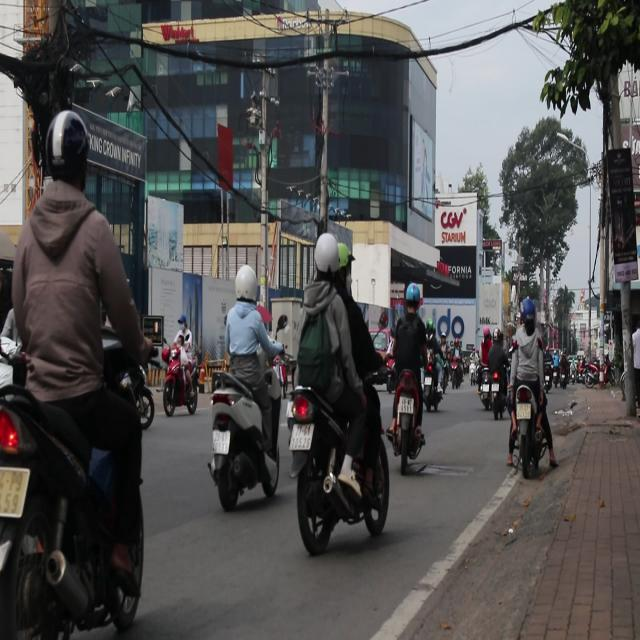motorbike: (0, 349, 144, 640), (286, 376, 394, 552), (206, 363, 281, 511), (510, 374, 548, 476), (111, 356, 156, 431), (162, 338, 202, 416), (395, 360, 421, 479), (478, 365, 504, 414), (492, 370, 509, 420), (424, 354, 436, 410), (447, 356, 465, 390)
